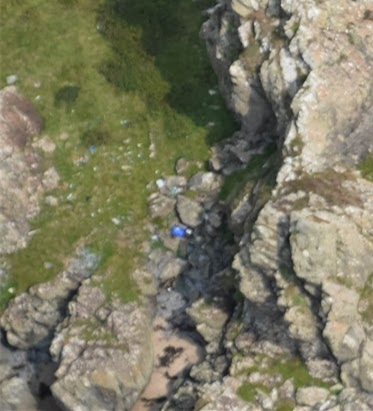scattered_barrel: (77, 120, 195, 245)
